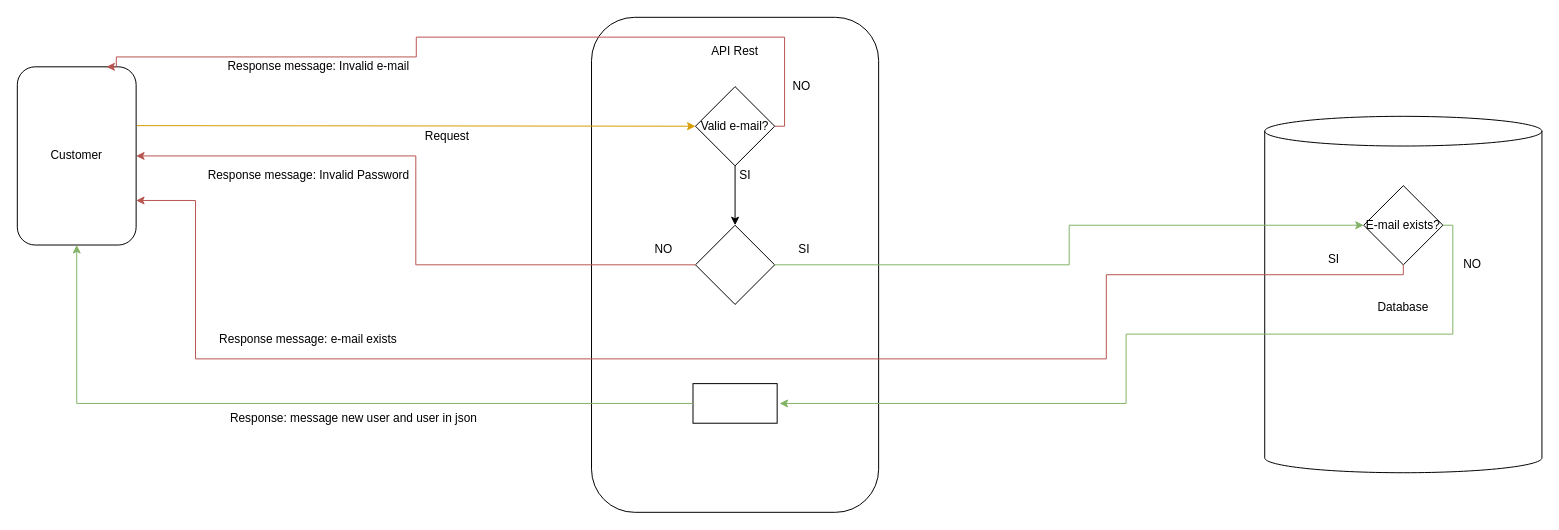
Image size: 1559x530. Some labels were removed from this diagram. The centre of each missing label's shape, as x and y in pixels:
Insert Data: the point at 734,403
Valid Password?: the point at 734,264
